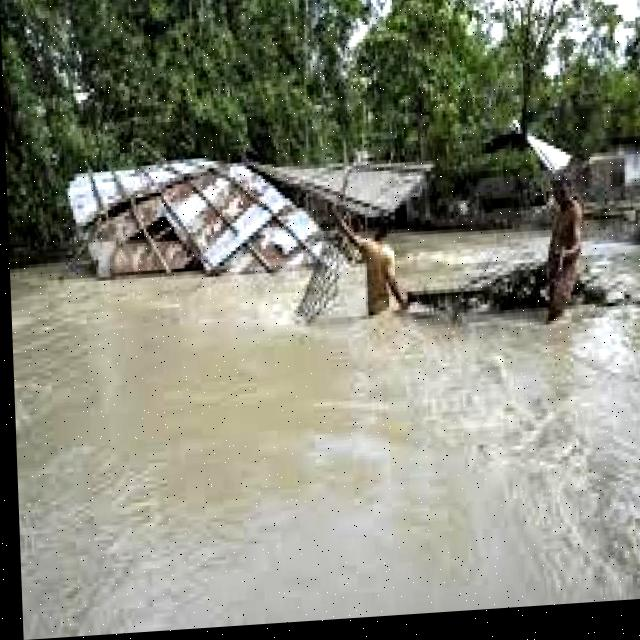civilian: (524, 170, 592, 346), (336, 218, 419, 345)
